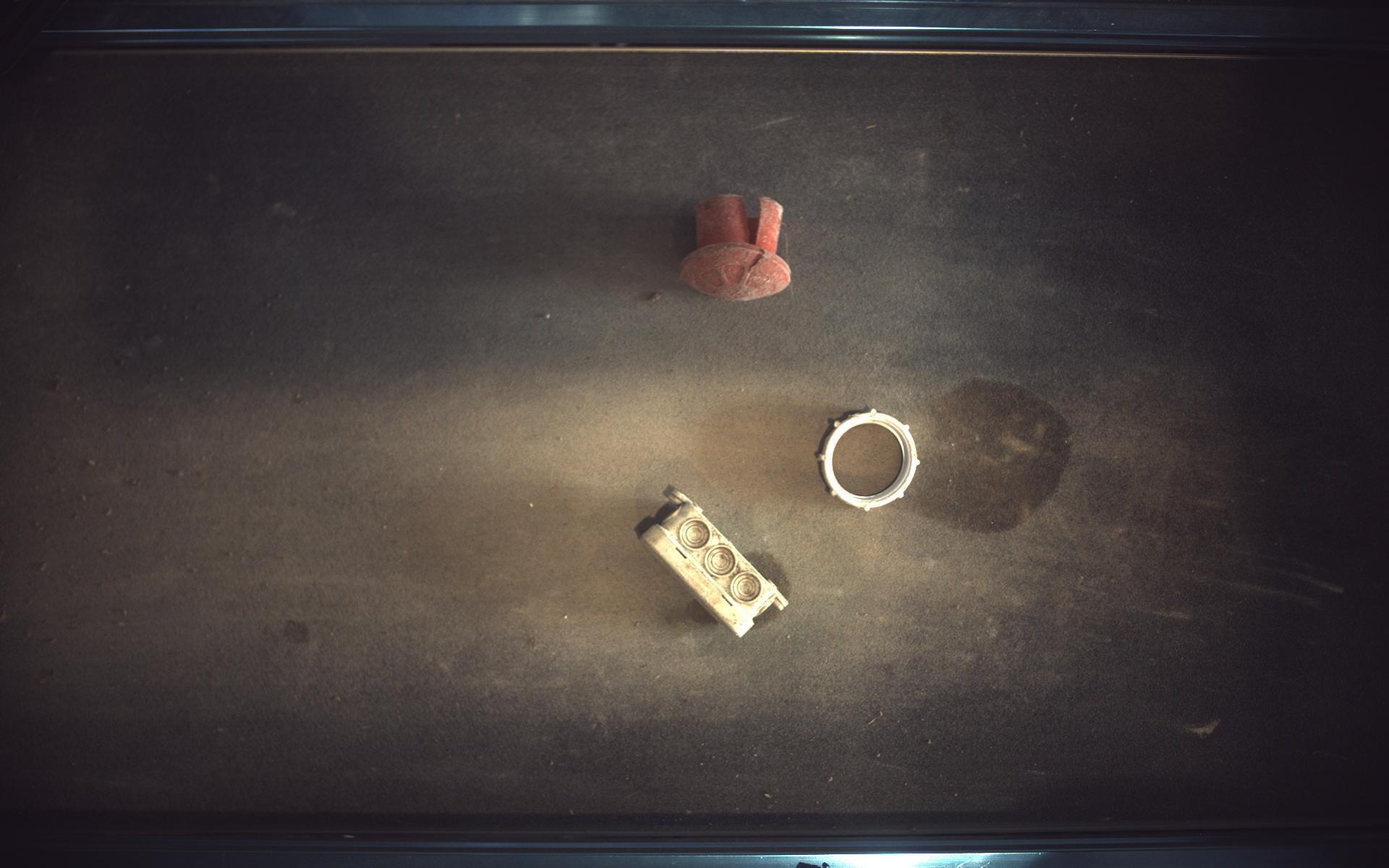general_w: (819, 409, 922, 511)
plastic: (637, 486, 789, 638), (681, 195, 791, 300)
